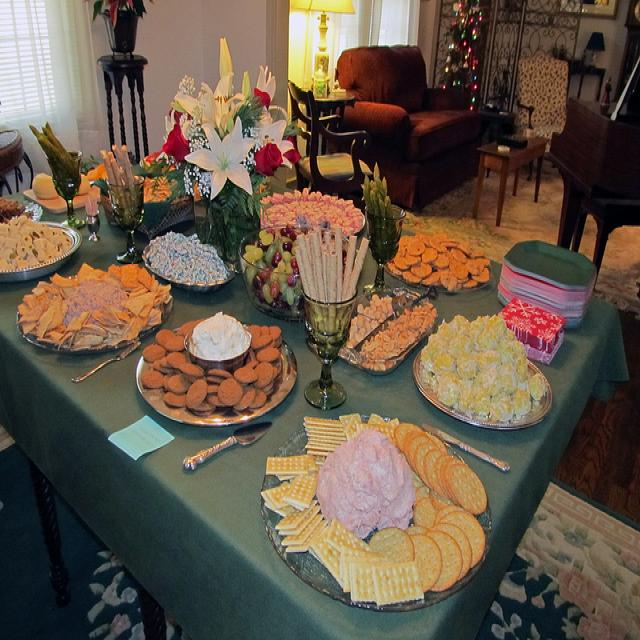chair: (336, 44, 479, 212), (287, 79, 374, 215), (486, 55, 569, 181), (0, 126, 34, 199)
dining table: (0, 121, 630, 640)
